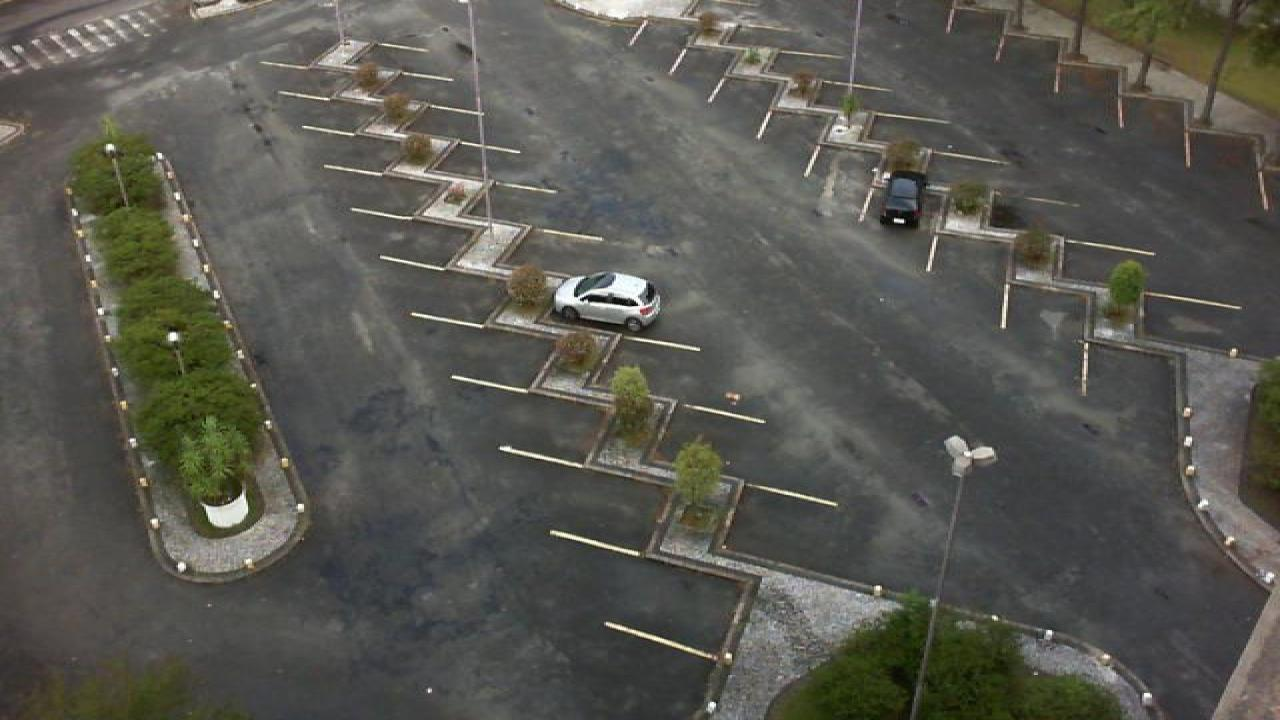Car: (548, 270, 662, 333), (880, 170, 928, 232)
